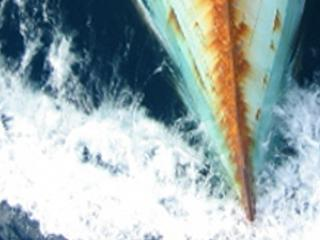rust: (189, 9, 264, 221)
